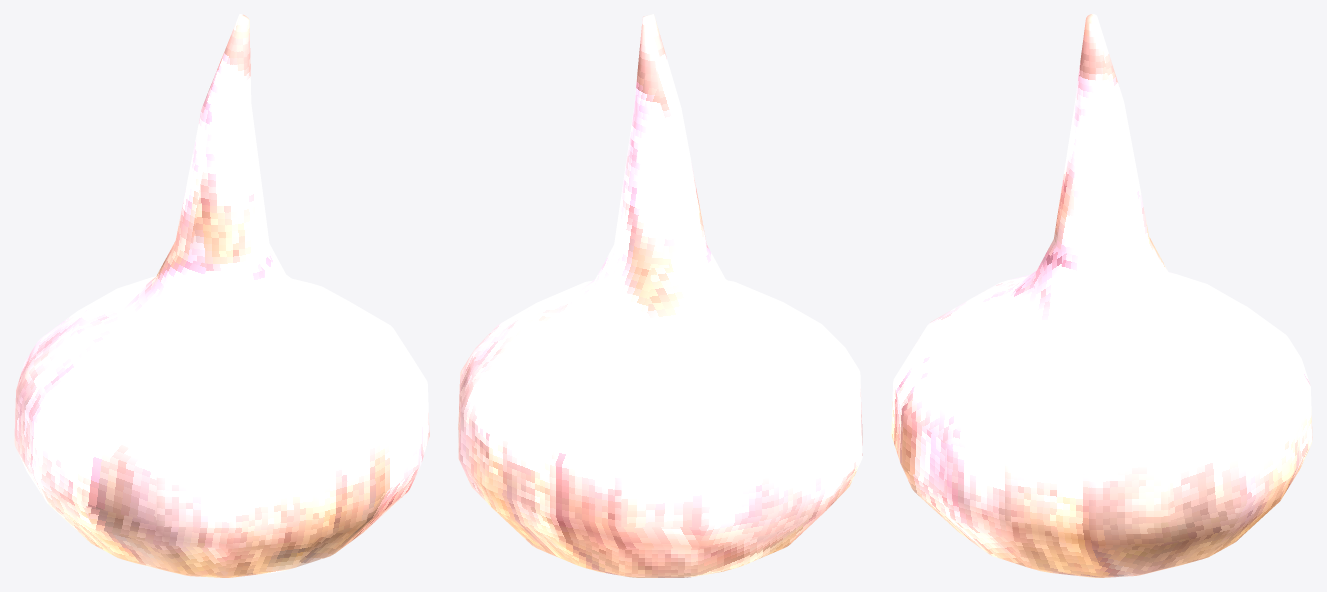
Rendered from garlic.glb.
3 views of the same model, side by side, from view 1: azimuth 30°, elevation 25°; view 2: azimuth 150°, elevation 25°; view 3: azimuth 270°, elevation 25° (orthographic). The views are drawn at different scales.
Visible parts, largest first — view 1: Garlic; view 2: Garlic; view 3: Garlic.
Part boxes in pixels (bbox=[...]): Garlic: bbox=[14, 14, 429, 577]; Garlic: bbox=[458, 14, 862, 577]; Garlic: bbox=[891, 14, 1312, 577].
Bounding box in the file's own units: 1.01 × 1.43 × 1.01.
